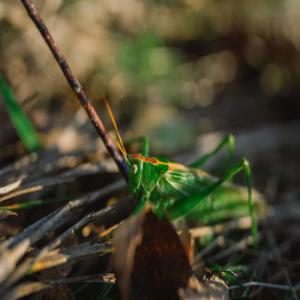locust: (104, 99, 275, 265)
